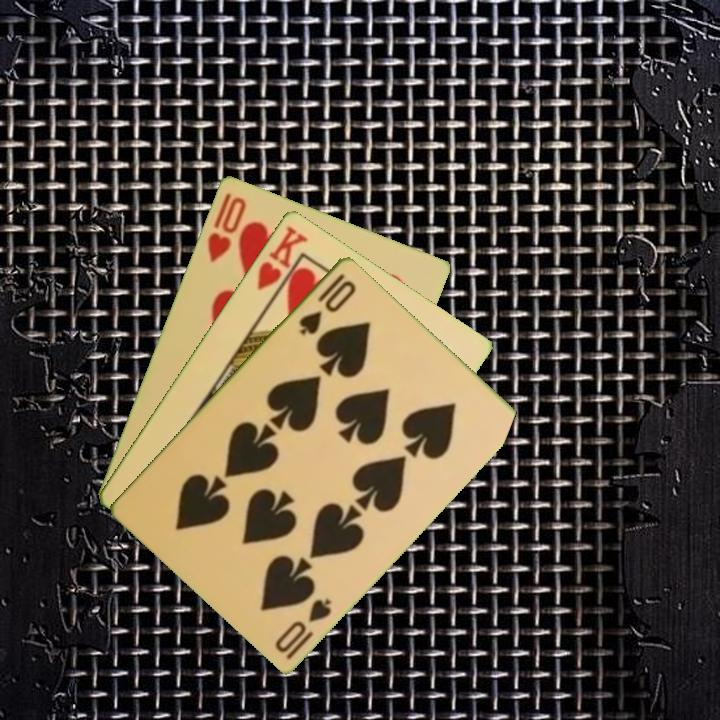10h: (203, 192, 249, 265)
10s: (295, 268, 359, 338), (271, 594, 335, 662)
Kh: (253, 221, 311, 305)
